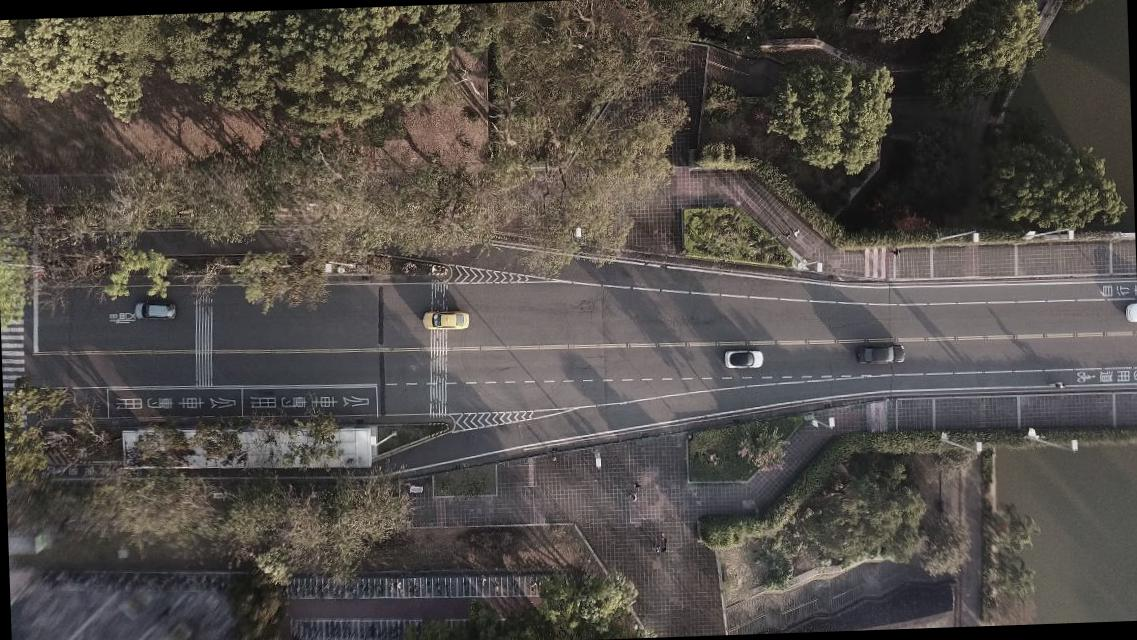vehicle: (855, 342, 905, 366), (422, 310, 469, 330), (723, 348, 763, 370), (134, 300, 175, 321), (1122, 300, 1136, 324)
